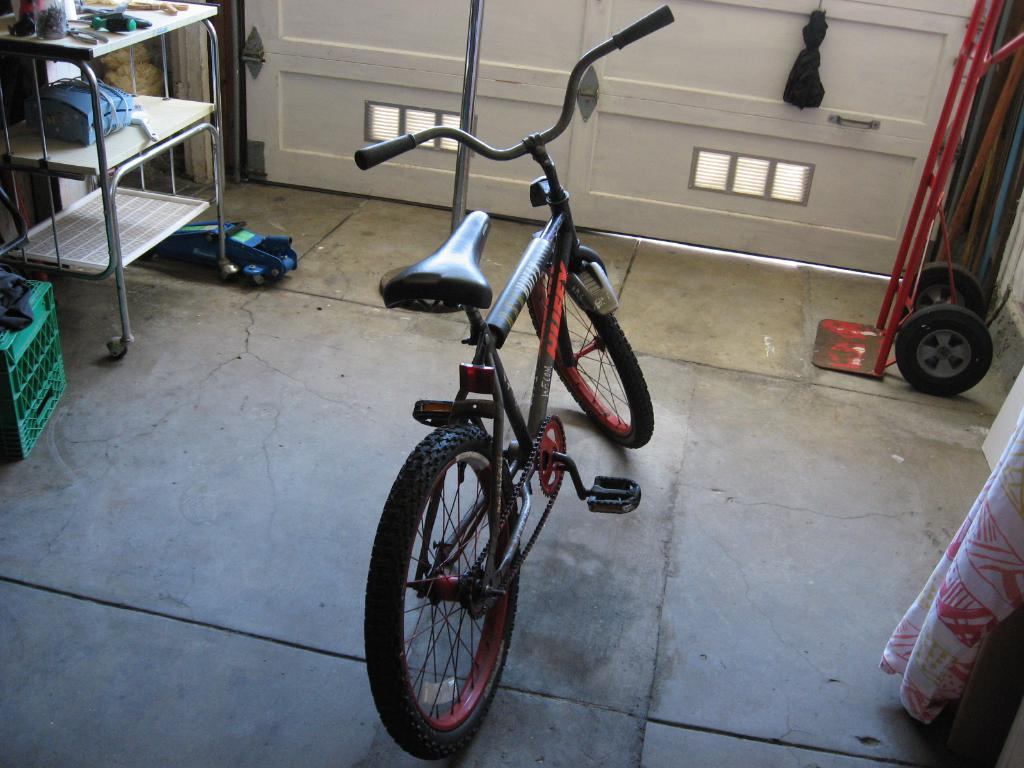Bike: (339, 80, 698, 760)
